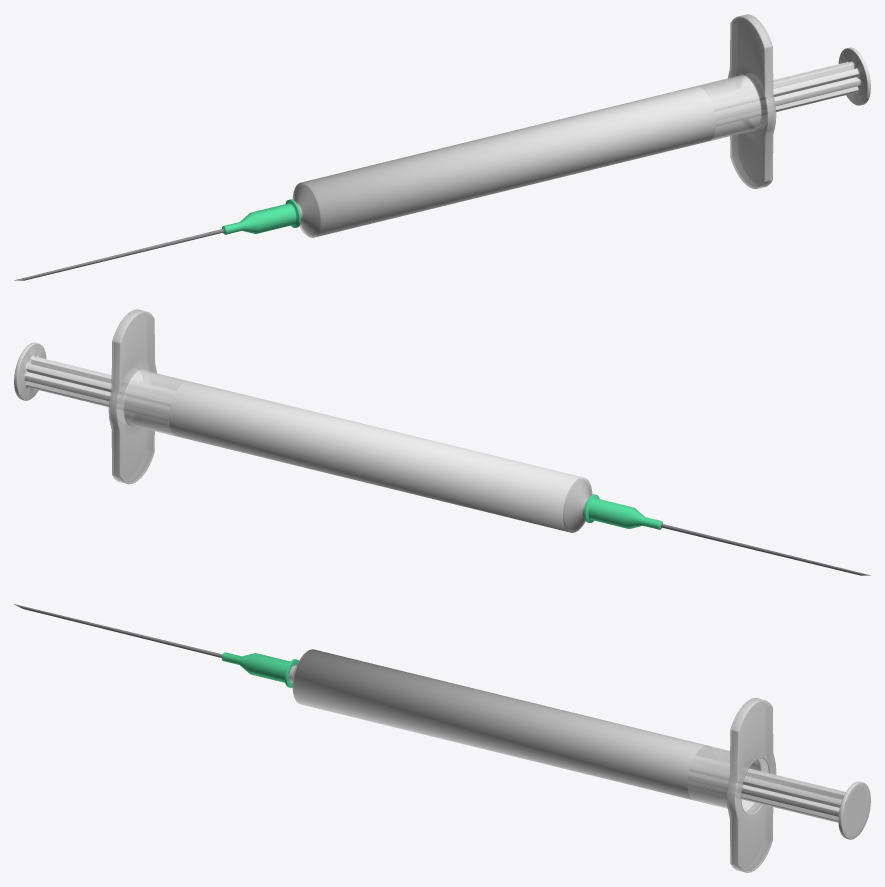
File: holder.fbx
3 renders of one model, top to bottom at view 1: azimuth 30°, elevation 25°; view 2: azimuth 150°, elevation 25°; view 3: azimuth 330°, elevation 25°, orthographic.
Parts seen in each view (by area): view 1: Tip.001; view 2: Tip.001; view 3: Tip.001.
Boxes of the visible parts, box(x1,y1,x2,y2) form: Tip.001: box(14, 14, 870, 280); Tip.001: box(14, 309, 870, 575); Tip.001: box(14, 604, 870, 872).
Bounding box in the file's own units: 477 × 90.58 × 40.58.
